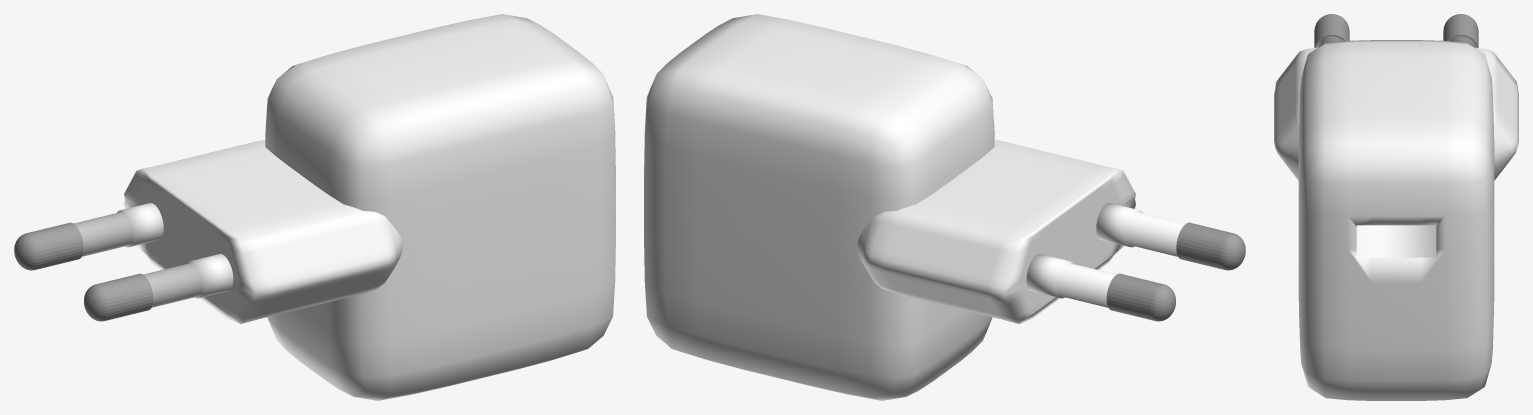
3 views of the same model, side by side, from view 1: azimuth 30°, elevation 25°; view 2: azimuth 150°, elevation 25°; view 3: azimuth 270°, elevation 25° (orthographic). The views are drawn at different scales.
Visible parts, largest first — view 1: Bonche, Adapter, Nose, SilverNose; view 2: Bonche, Adapter, Nose, SilverNose; view 3: Bonche, Adapter, SilverNose, Nose.
Part boxes in pixels (x1=…): Bonche: x1=265, y1=14, x2=615, y2=400; Adapter: x1=124, y1=140, x2=402, y2=324; Nose: x1=74, y1=203, x2=233, y2=307; SilverNose: x1=14, y1=222, x2=153, y2=321; Bonche: x1=644, y1=14, x2=994, y2=400; Adapter: x1=857, y1=140, x2=1135, y2=324; Nose: x1=1026, y1=203, x2=1185, y2=307; SilverNose: x1=1106, y1=222, x2=1245, y2=321; Bonche: x1=1298, y1=40, x2=1494, y2=400; Adapter: x1=1274, y1=47, x2=1518, y2=180; SilverNose: x1=1314, y1=14, x2=1478, y2=47; Nose: x1=1316, y1=36, x2=1476, y2=47.
Size of the model in its own units: 3.81 by 2 by 1.66.
Materials: 3 (1 with a texture image).
